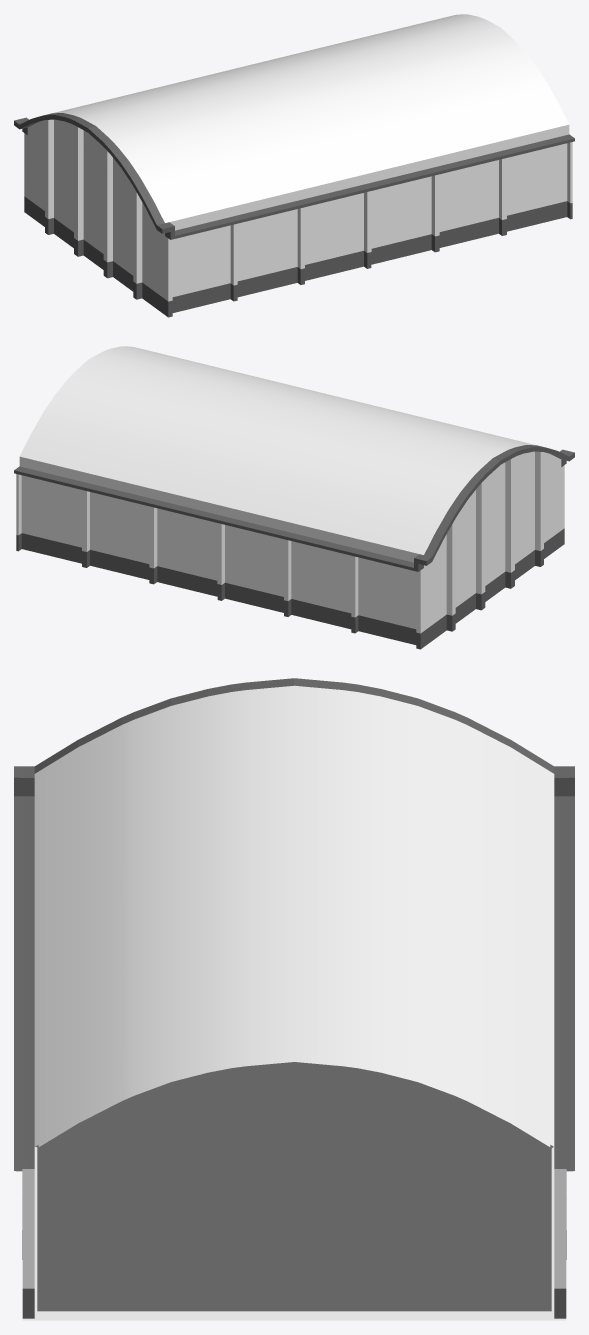
Rendered from 粮仓仓体二分之一.gltf.
3 renders of one model, top to bottom at view 1: azimuth 30°, elevation 25°; view 2: azimuth 150°, elevation 25°; view 3: azimuth 270°, elevation 25°, orthographic. The views are drawn at different scales.
Visible parts, largest first — view 1: 粮仓仓体2; view 2: 粮仓仓体2; view 3: 粮仓仓体2.
Boxes of the visible parts, x1,y1,x2,y2 form: 粮仓仓体2: (14, 14, 574, 317); 粮仓仓体2: (14, 346, 574, 649); 粮仓仓体2: (14, 678, 574, 1320).
Size of the model in its own units: 295 by 94.58 by 184.
Materials: 5 (2 with a texture image).
